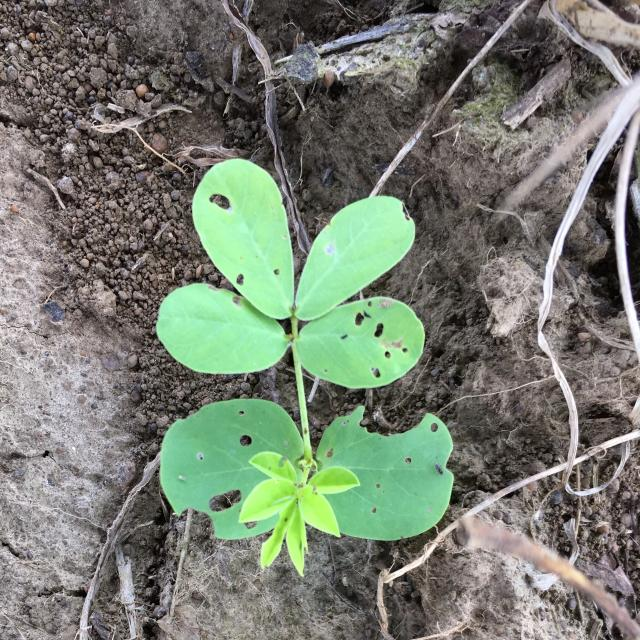Sicklepod: (156, 158, 454, 577)
